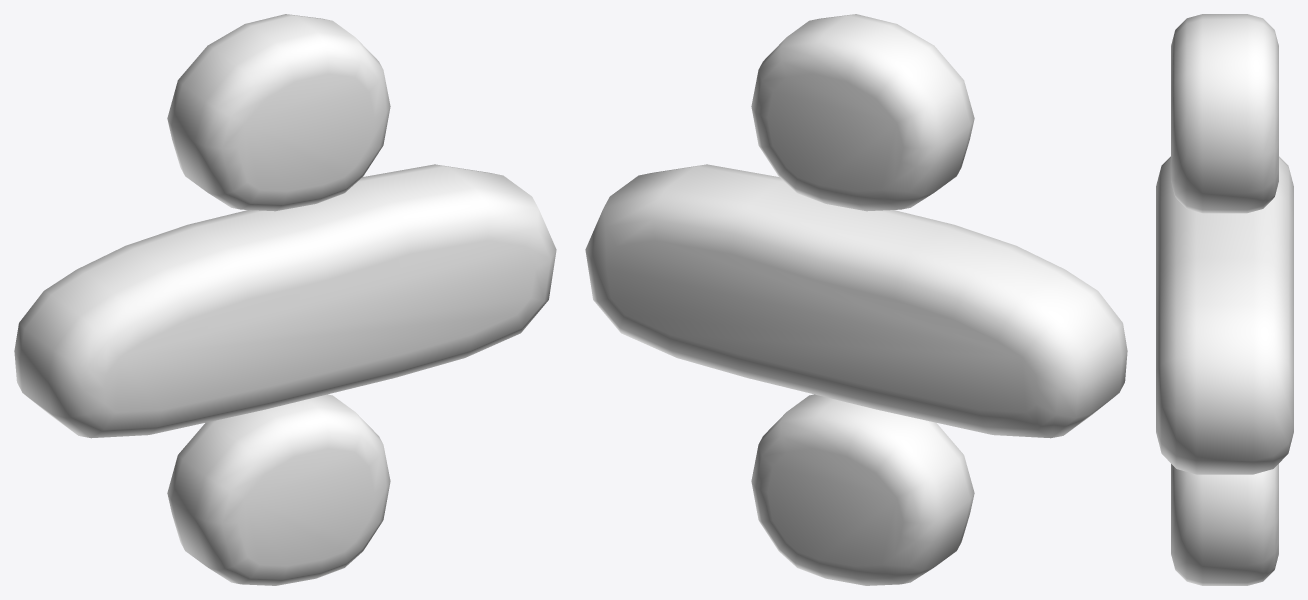
The model's file is Symbol÷.fbx.
3 renders of one model, left to right at view 1: azimuth 30°, elevation 25°; view 2: azimuth 150°, elevation 25°; view 3: azimuth 270°, elevation 25°, orthographic.
Visible parts, largest first — view 1: Vert.015; view 2: Vert.015; view 3: Vert.015.
Part boxes in pixels (x1,y1,x2,y2): Vert.015: [14, 14, 556, 585]; Vert.015: [585, 14, 1127, 585]; Vert.015: [1156, 14, 1293, 585].
Bounding box in the file's own units: 310 × 319 × 73.91.
